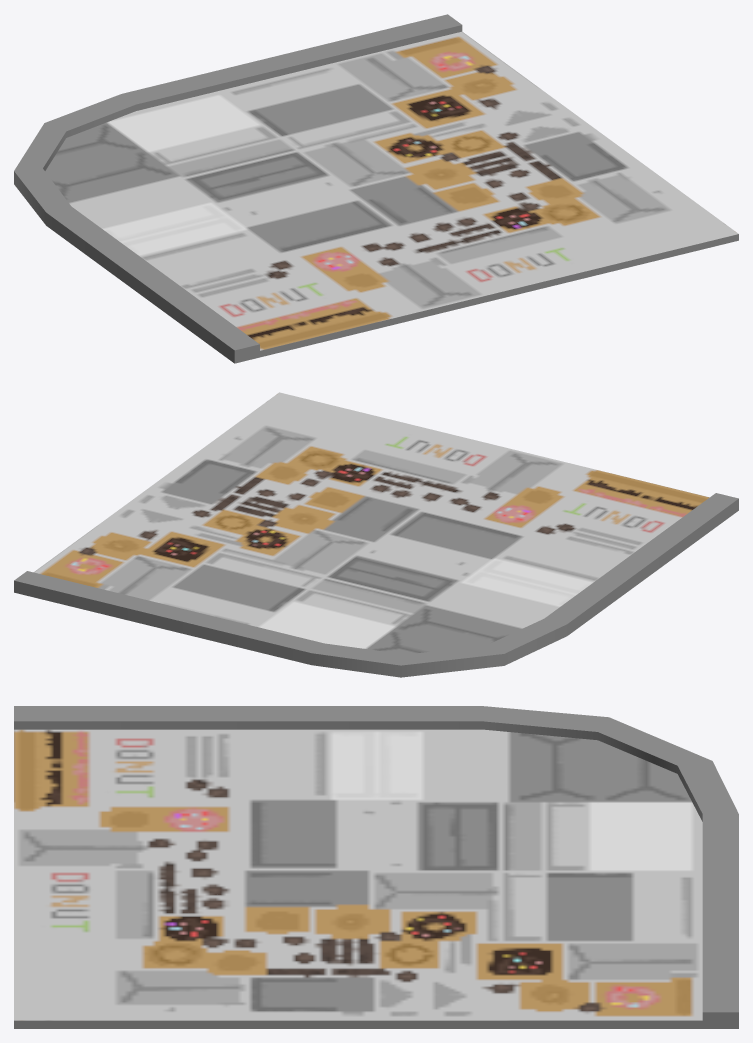
The model's file is Floor_002_C1.FBX.
3 renders of one model, top to bottom at view 1: azimuth 30°, elevation 25°; view 2: azimuth 150°, elevation 25°; view 3: azimuth 270°, elevation 25°, orthographic. The views are drawn at different scales.
Parts seen in each view (by area): view 1: Floor_002_C1; view 2: Floor_002_C1; view 3: Floor_002_C1.
Boxes of the visible parts, x1,y1,x2,y2 form: Floor_002_C1: (14, 14, 738, 363); Floor_002_C1: (14, 392, 738, 677); Floor_002_C1: (14, 706, 738, 1028).
Bounding box in the file's own units: 400 × 400 × 10.
